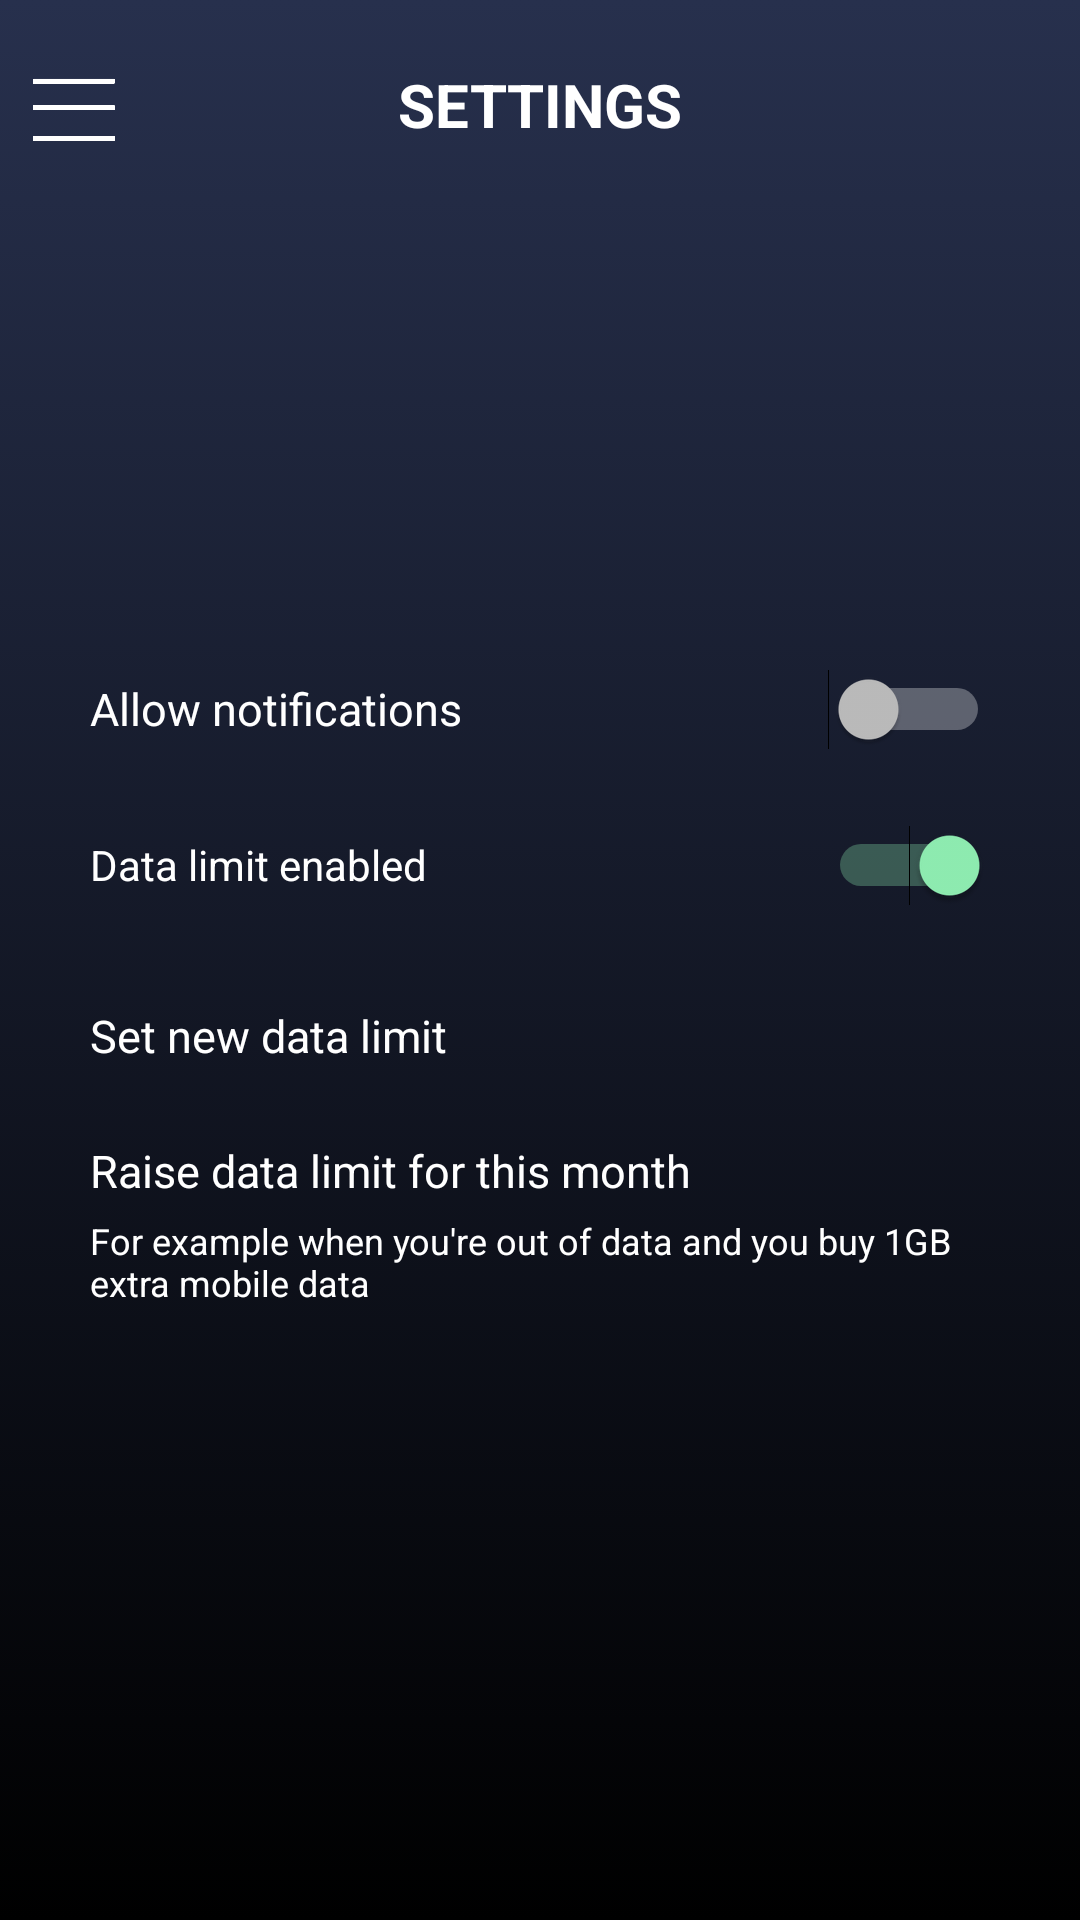

Icons on this 1080*1920 Android screen, each with its box as (x1, y1, x2, y2):
three lines: (33, 79, 115, 141)
